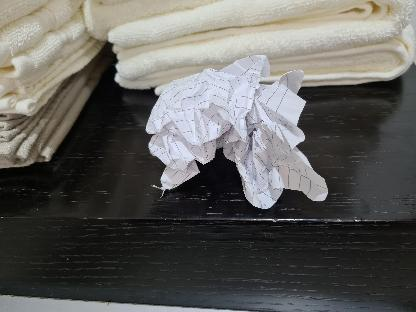Paper: (147, 52, 327, 204)
